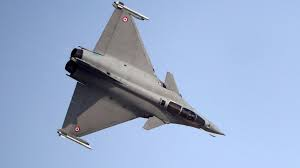fighter: (55, 1, 229, 151)
